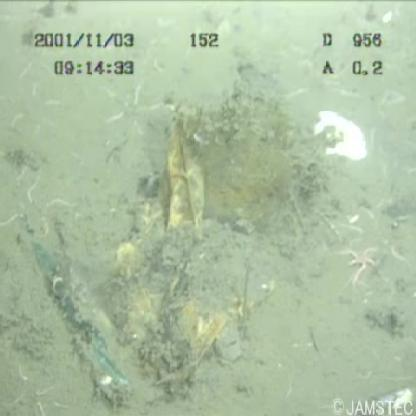Bio: (332, 236, 380, 286)
Rác: (20, 116, 256, 411)
